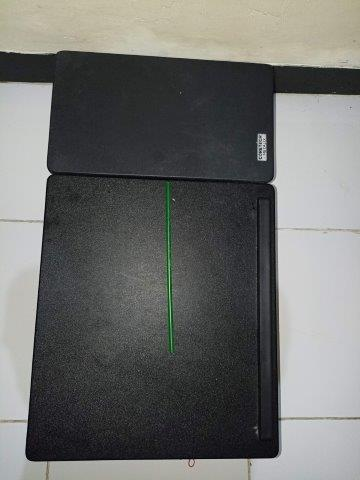sedotan: (165, 182, 174, 352)
